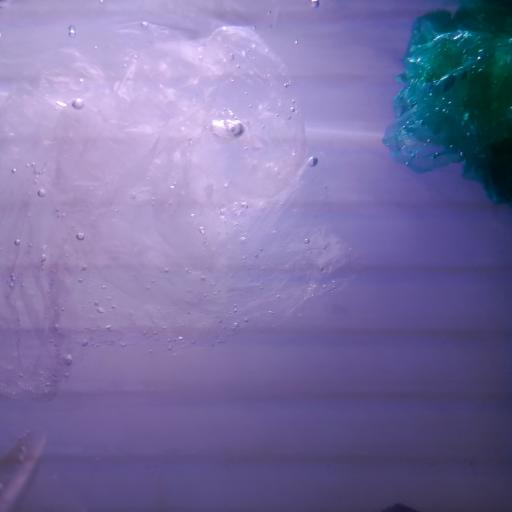plastic_bag: (0, 23, 362, 403), (379, 0, 512, 219)
plastic_cup: (0, 426, 89, 512)
